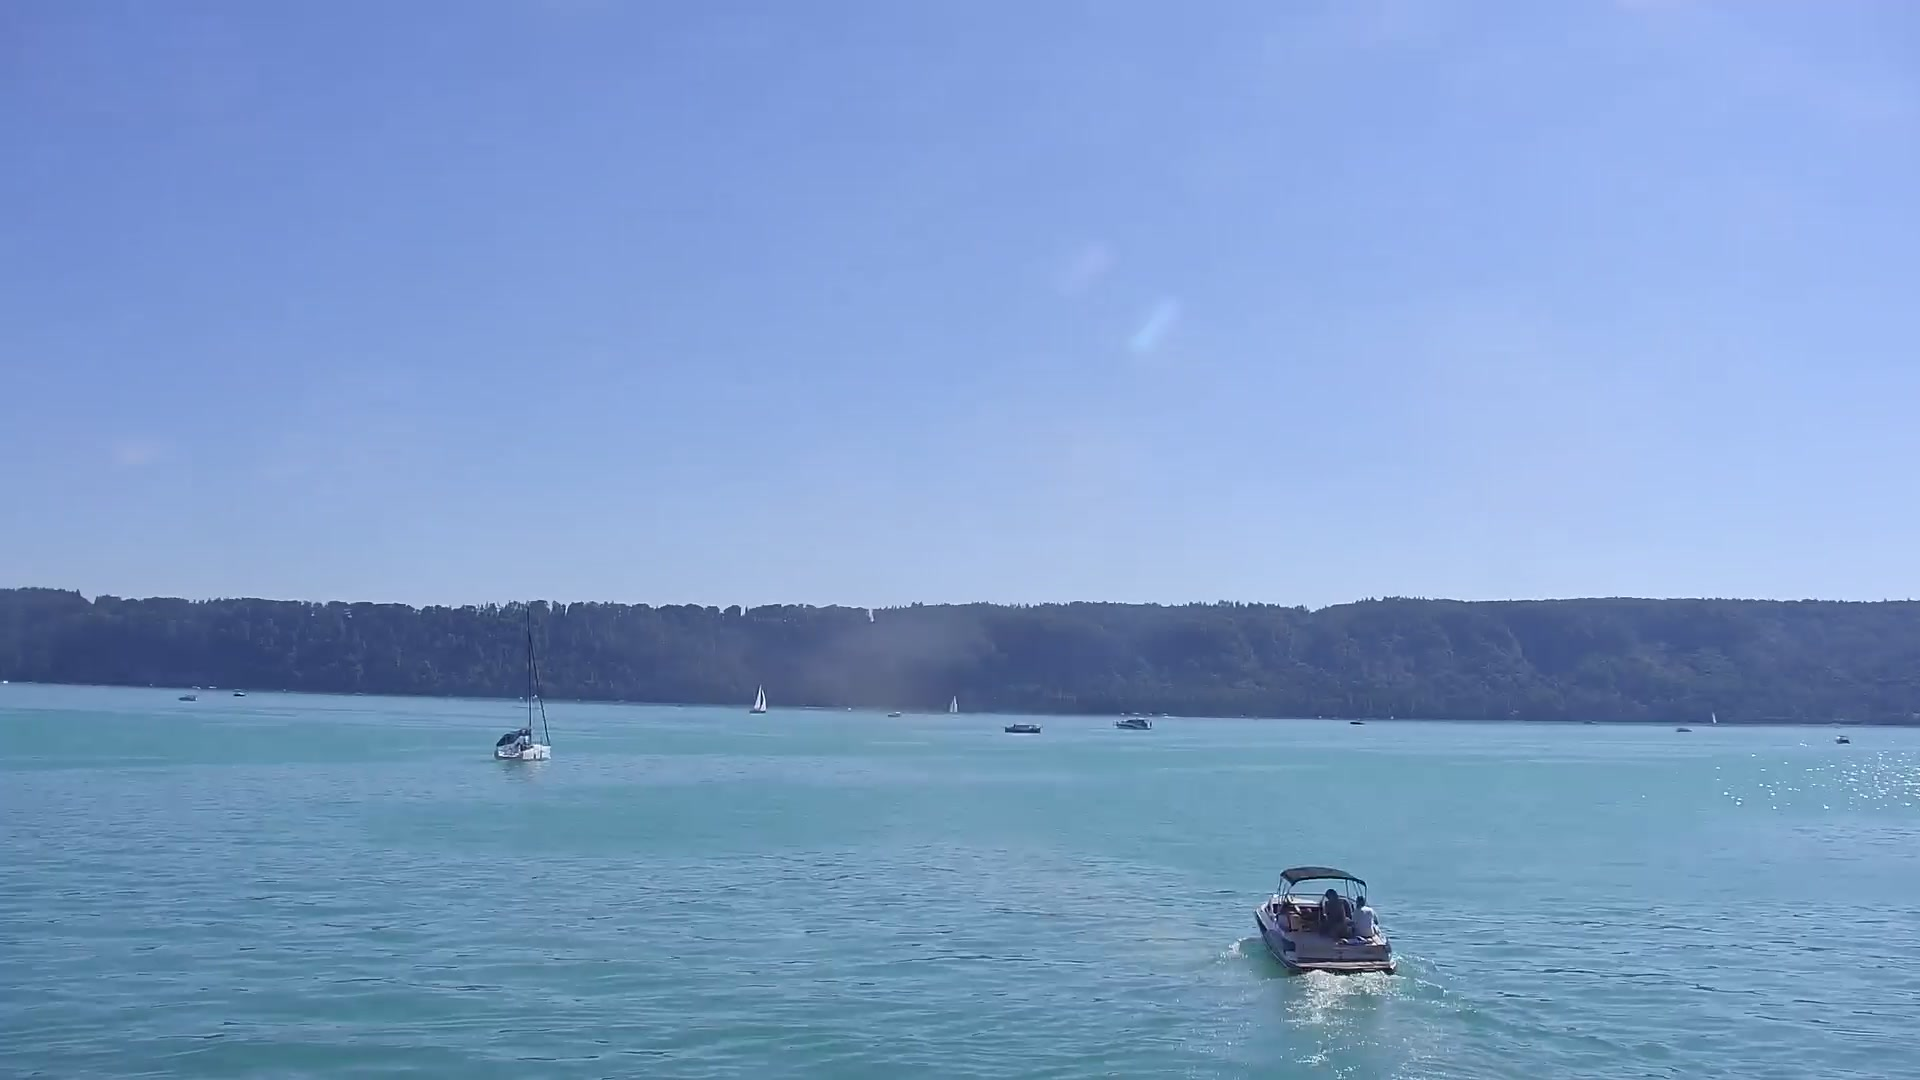human: (1322, 889, 1352, 941), (1351, 895, 1378, 938)
sea: (1252, 864, 1399, 976), (493, 605, 552, 762), (749, 683, 767, 714), (1114, 718, 1153, 730), (1004, 723, 1041, 733), (1833, 734, 1851, 745), (948, 695, 958, 715), (177, 694, 198, 702), (232, 688, 247, 697), (1674, 726, 1692, 733), (887, 710, 902, 718), (1349, 718, 1365, 724), (1711, 711, 1717, 726)
